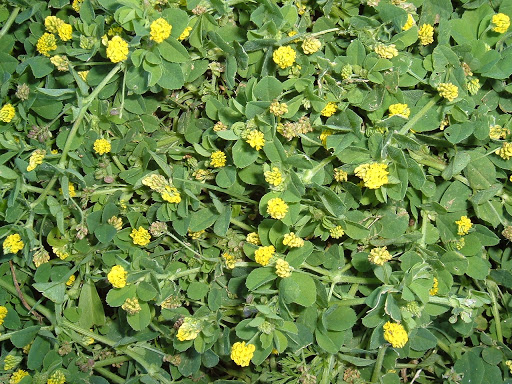clover: (5, 5, 502, 377)
